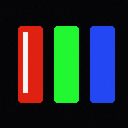4 line_v: (23, 32, 27, 92)
